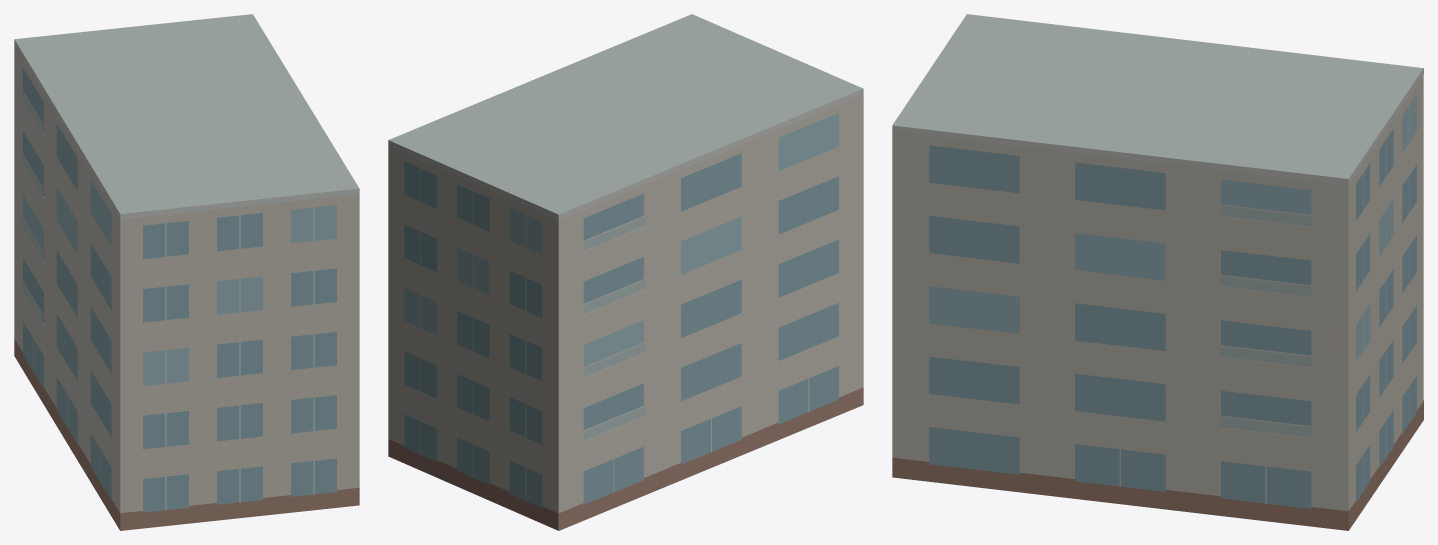
Rendered from survey-upis-32990841.glb.
3 renders of one model, left to right at view 1: azimuth 30°, elevation 25°; view 2: azimuth 150°, elevation 25°; view 3: azimuth 270°, elevation 25°, orthographic. The views are drawn at different scales.
Parts seen in each view (by area): view 1: survey-upis-32990841.tmp; view 2: survey-upis-32990841.tmp; view 3: survey-upis-32990841.tmp.
Boxes of the visible parts, x1=… form: survey-upis-32990841.tmp: x1=14, y1=14, x2=359, y2=530; survey-upis-32990841.tmp: x1=388, y1=14, x2=863, y2=530; survey-upis-32990841.tmp: x1=892, y1=14, x2=1423, y2=530.
Bounding box in the file's own units: 13.93 × 13.85 × 18.97.
